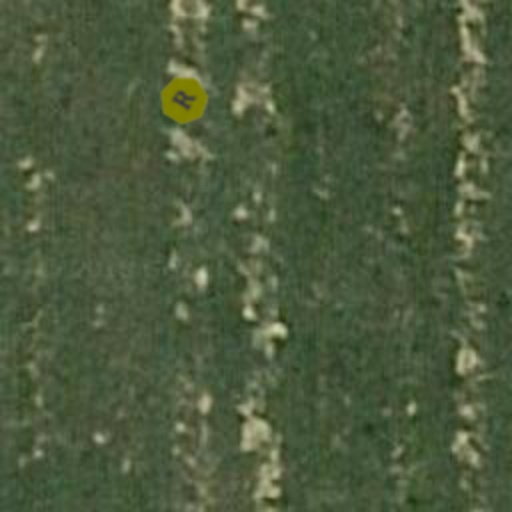heptagon: (150, 66, 218, 134)
